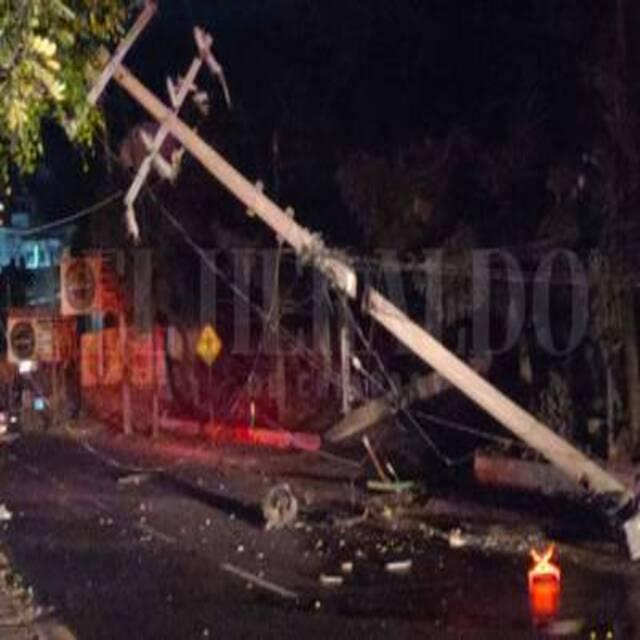Inclined Pole: (43, 0, 640, 561)
